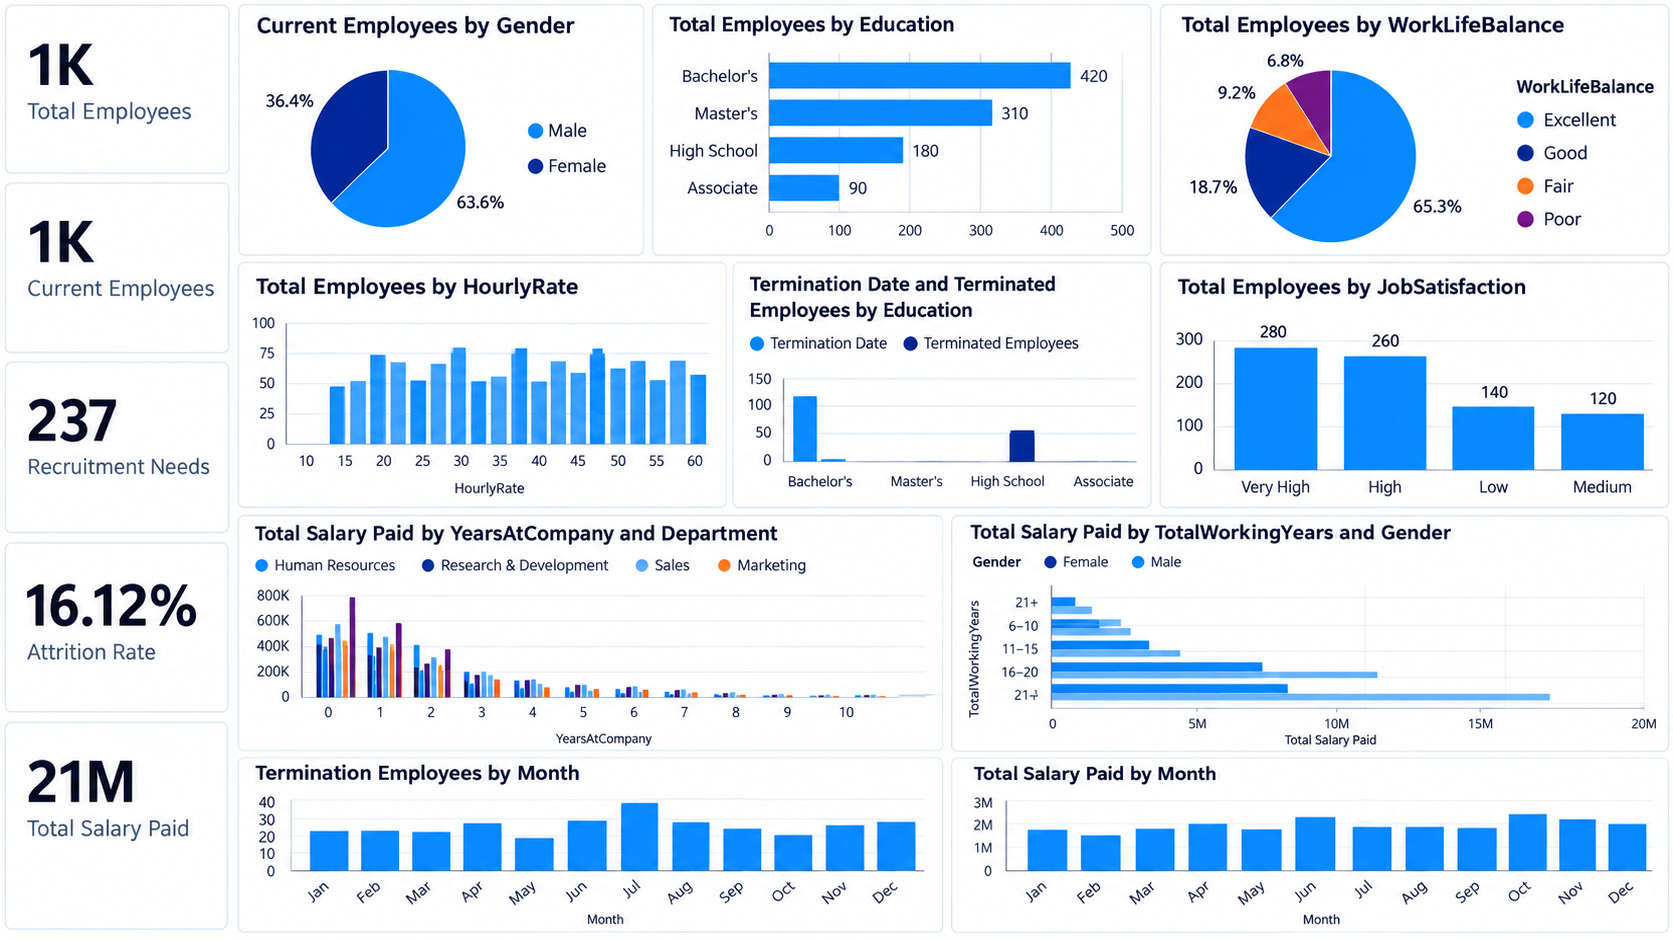

Layout of this report page (visuals, bound fields, positions):
{"tool":"powerbi","page":{"name":"Challenge 2","canvas":[1280,720],"ordinal":1},"visuals":[{"type":"cardVisual","fields":{"Data":["Cost.Total Employees"]},"box":[10,0,193.2,103.6],"z":0},{"type":"cardVisual","fields":{"Data":["Cost.Current Employees"]},"box":[10,137.4,193.2,103.6],"z":1},{"type":"cardVisual","fields":{"Data":["Cost.Terminated Employees"]},"box":[0,300.8,203.2,119.5],"z":2},{"type":"cardVisual","fields":{"Data":["Cost.Termination Rate"]},"box":[0,434.2,203,150],"z":3},{"type":"cardVisual","fields":{"Data":["Cost.Total Salary Paid"]},"box":[0,583.6,193.2,133.4],"z":4},{"type":"pieChart","fields":{"Category":["Dataset.Gender"],"Y":["Cost.Current Employees"]},"box":[203.2,0,235,189.2],"z":5},{"type":"clusteredBarChart","fields":{"Category":["Dataset.Education"],"Y":["Cost.Total Employees"]},"box":[438.2,0,422.2,189.2],"z":6},{"type":"clusteredColumnChart","fields":{"Category":["Dataset.JobSatisfaction"],"Y":["Cost.Total Employees"]},"box":[860.4,189.2,398.3,189.2],"z":7},{"type":"pieChart","fields":{"Category":["Dataset.WorkLifeBalance"],"Y":["Cost.Total Employees"]},"box":[874.4,8,384.4,181.2],"z":8},{"type":"clusteredColumnChart","fields":{"Category":["Dataset.HourlyRate"],"Y":["Cost.Total Employees"]},"box":[193.2,189.2,344.6,149.4],"z":9},{"type":"clusteredColumnChart","fields":{"Y":["Cost.Termination Rate","Cost.Terminated Employees"],"Category":["Dataset.DateToday.Variation.Date Hierarchy.Quarter"]},"box":[537.8,189.2,308.7,149.4],"z":10},{"type":"clusteredColumnChart","fields":{"Y":["Cost.Terminated Employees"],"Category":["Dataset.DateStart.Variation.Date Hierarchy.Month"]},"box":[203.2,563.7,492,149.4],"z":11},{"type":"clusteredColumnChart","fields":{"Category":["Dataset.DateStart.Variation.Date Hierarchy.Month"],"Y":["Cost.Total Salary Paid"]},"box":[695.1,569.6,563.7,149.4],"z":12},{"type":"clusteredColumnChart","fields":{"Category":["Dataset.YearsAtCompany"],"Y":["Cost.Total Salary Paid"],"Series":["Dataset.Department"]},"box":[203.2,360.5,470,203.2],"z":13},{"type":"clusteredBarChart","fields":{"Category":["Dataset.TotalWorkingYears"],"Y":["Cost.Total Salary Paid"],"Series":["Dataset.Gender"]},"box":[695.1,360.5,583.6,203.2],"z":14}]}

Visuals, with their boxes in screenshot pixels (x1, y1, x2, y2), scaled from the page's 1280x720 canvas onto the 1673x940 screenshot:
cardVisual - Cost.Total Employees: region(13, 0, 266, 135)
cardVisual - Cost.Current Employees: region(13, 179, 266, 315)
cardVisual - Cost.Terminated Employees: region(0, 393, 266, 549)
cardVisual - Cost.Termination Rate: region(0, 567, 265, 763)
cardVisual - Cost.Total Salary Paid: region(0, 762, 253, 936)
pieChart - Dataset.Gender x Cost.Current Employees: region(266, 0, 573, 247)
clusteredBarChart - Dataset.Education x Cost.Total Employees: region(573, 0, 1125, 247)
clusteredColumnChart - Dataset.JobSatisfaction x Cost.Total Employees: region(1125, 247, 1645, 494)
pieChart - Dataset.WorkLifeBalance x Cost.Total Employees: region(1143, 10, 1645, 247)
clusteredColumnChart - Dataset.HourlyRate x Cost.Total Employees: region(253, 247, 703, 442)
clusteredColumnChart - Cost.Termination Rate x Cost.Terminated Employees: region(703, 247, 1106, 442)
clusteredColumnChart - Cost.Terminated Employees x Dataset.DateStart.Variation.Date Hierarchy.Month: region(266, 736, 909, 931)
clusteredColumnChart - Dataset.DateStart.Variation.Date Hierarchy.Month x Cost.Total Salary Paid: region(909, 744, 1645, 939)
clusteredColumnChart - Dataset.YearsAtCompany x Cost.Total Salary Paid: region(266, 471, 880, 736)
clusteredBarChart - Dataset.TotalWorkingYears x Cost.Total Salary Paid: region(909, 471, 1671, 736)
